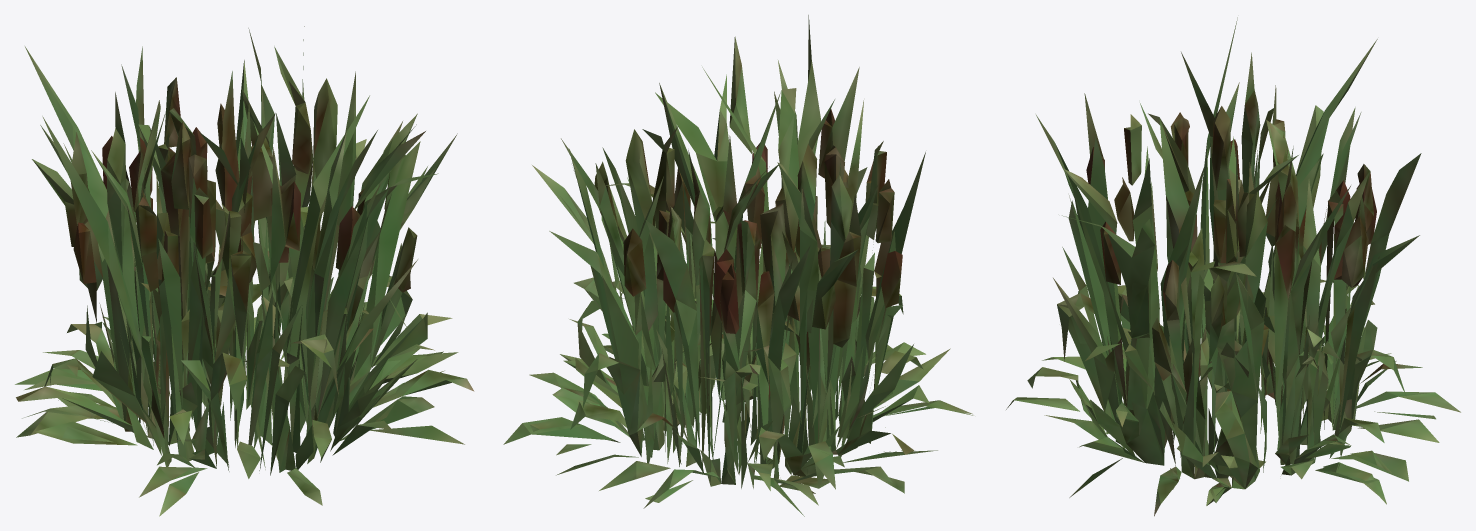
File: cattail_reeds.glb
3 renders of one model, left to right at view 1: azimuth 30°, elevation 25°; view 2: azimuth 150°, elevation 25°; view 3: azimuth 270°, elevation 25°, orthographic. The views are drawn at different scales.
Bounding box in the file's own units: 1.85 × 1.51 × 1.81.
Materials: 1 (1 with a texture image).
